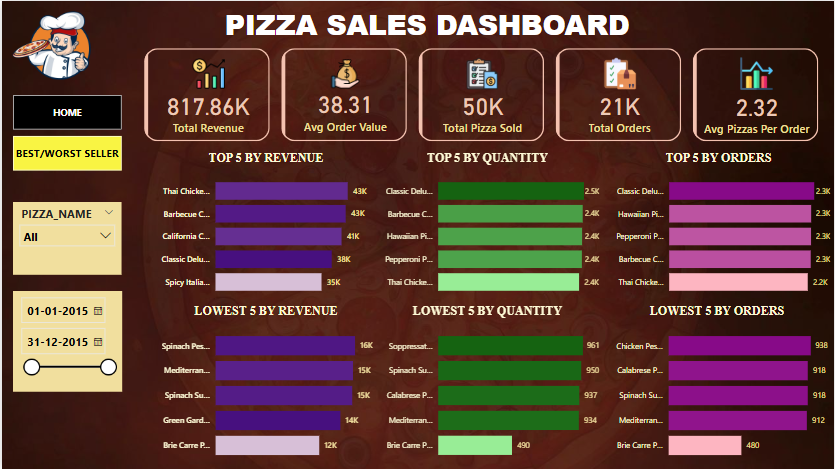

Layout of this report page (visuals, bound fields, positions):
{"tool":"powerbi","page":{"name":"BEST/WORST SELLER","canvas":[1280,720],"ordinal":1},"visuals":[{"type":"cardVisual","fields":{"Data":["pizza_sales.Total Revenue","pizza_sales.Avg Order Value","pizza_sales.Total Pizza Sold","pizza_sales.Total Orders","pizza_sales.Avg Pizzas Per Order"]},"box":[214,68,1047.4,153.1],"z":0},{"type":"image","box":[0,0,158.7,144.6],"z":1000},{"type":"textbox","box":[324.6,0,658.5,86.2],"z":2000},{"type":"pageNavigator","box":[17,144.6,167.2,117.6],"z":3000},{"type":"slicer","fields":{"Values":["pizza_sales.Pizza_name"]},"box":[17,309,167.2,112],"z":4000},{"type":"slicer","fields":{"Values":["pizza_sales.Order_date"]},"box":[16.9,446.2,167.7,155.4],"z":5000},{"type":"barChart","title":"TOP 5 BY REVENUE","fields":{"Category":["pizza_sales.Pizza_name"],"Y":["pizza_sales.Total Revenue"]},"box":[224.6,230.8,363.1,235.4],"z":6000},{"type":"barChart","title":"LOWEST 5 BY REVENUE","fields":{"Category":["pizza_sales.Pizza_name"],"Y":["pizza_sales.Total Revenue"]},"box":[224.6,466.2,363.1,253.8],"z":7000},{"type":"barChart","title":"TOP 5 BY QUANTITY","fields":{"Category":["pizza_sales.Pizza_name"],"Y":["pizza_sales.Total Pizza Sold"]},"box":[569.2,230.8,355.4,235.4],"z":8000},{"type":"barChart","title":"LOWEST 5 BY QUANTITY","fields":{"Category":["pizza_sales.Pizza_name"],"Y":["pizza_sales.Total Pizza Sold"]},"box":[569.2,466.2,355.4,253.8],"z":9000},{"type":"barChart","title":"LOWEST 5 BY ORDERS","fields":{"Category":["pizza_sales.Pizza_name"],"Y":["pizza_sales.Total Orders"]},"box":[924.6,466.2,350.8,253.8],"z":10000},{"type":"barChart","title":"TOP 5 BY ORDERS","fields":{"Category":["pizza_sales.Pizza_name"],"Y":["pizza_sales.Total Orders"]},"box":[924.6,230.8,355.4,235.4],"z":11000}]}

Visuals, with their boxes in screenshot pixels (x1, y1, x2, y2), scaled from the page's 1280x720 canvas onto the 835x469 screenshot:
cardVisual - pizza_sales.Total Revenue x pizza_sales.Avg Order Value: bbox(140, 44, 823, 144)
image: bbox(0, 0, 104, 94)
textbox: bbox(212, 0, 641, 56)
pageNavigator: bbox(11, 94, 120, 171)
slicer - pizza_sales.Pizza_name: bbox(11, 201, 120, 274)
slicer - pizza_sales.Order_date: bbox(11, 291, 120, 392)
"TOP 5 BY REVENUE" barChart: bbox(147, 150, 383, 304)
"LOWEST 5 BY REVENUE" barChart: bbox(147, 304, 383, 468)
"TOP 5 BY QUANTITY" barChart: bbox(371, 150, 603, 304)
"LOWEST 5 BY QUANTITY" barChart: bbox(371, 304, 603, 468)
"LOWEST 5 BY ORDERS" barChart: bbox(603, 304, 832, 468)
"TOP 5 BY ORDERS" barChart: bbox(603, 150, 834, 304)
